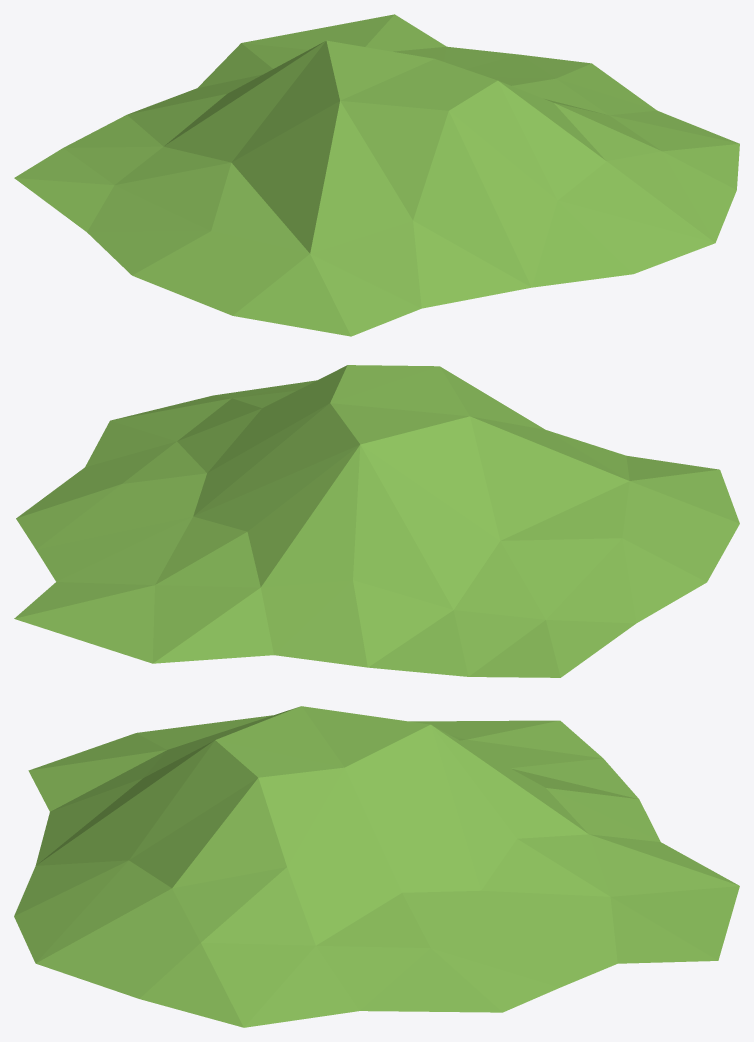
File: MT_Mountain_S_a_21_LOD.fbx
3 views of the same model, one above another, from view 1: azimuth 30°, elevation 25°; view 2: azimuth 150°, elevation 25°; view 3: azimuth 270°, elevation 25° (orthographic). The views are drawn at different scales.
Parts seen in each view (by area): view 1: MT_Mountain_S_a_21_LOD0; view 2: MT_Mountain_S_a_21_LOD0; view 3: MT_Mountain_S_a_21_LOD0.
Part boxes in pixels (left/top/right/bottom): MT_Mountain_S_a_21_LOD0: left=14, top=14, right=739, bottom=336; MT_Mountain_S_a_21_LOD0: left=14, top=365, right=739, bottom=677; MT_Mountain_S_a_21_LOD0: left=14, top=706, right=739, bottom=1027.
Size of what is drawn, in the model's own units: 2012 by 393 by 1973.
